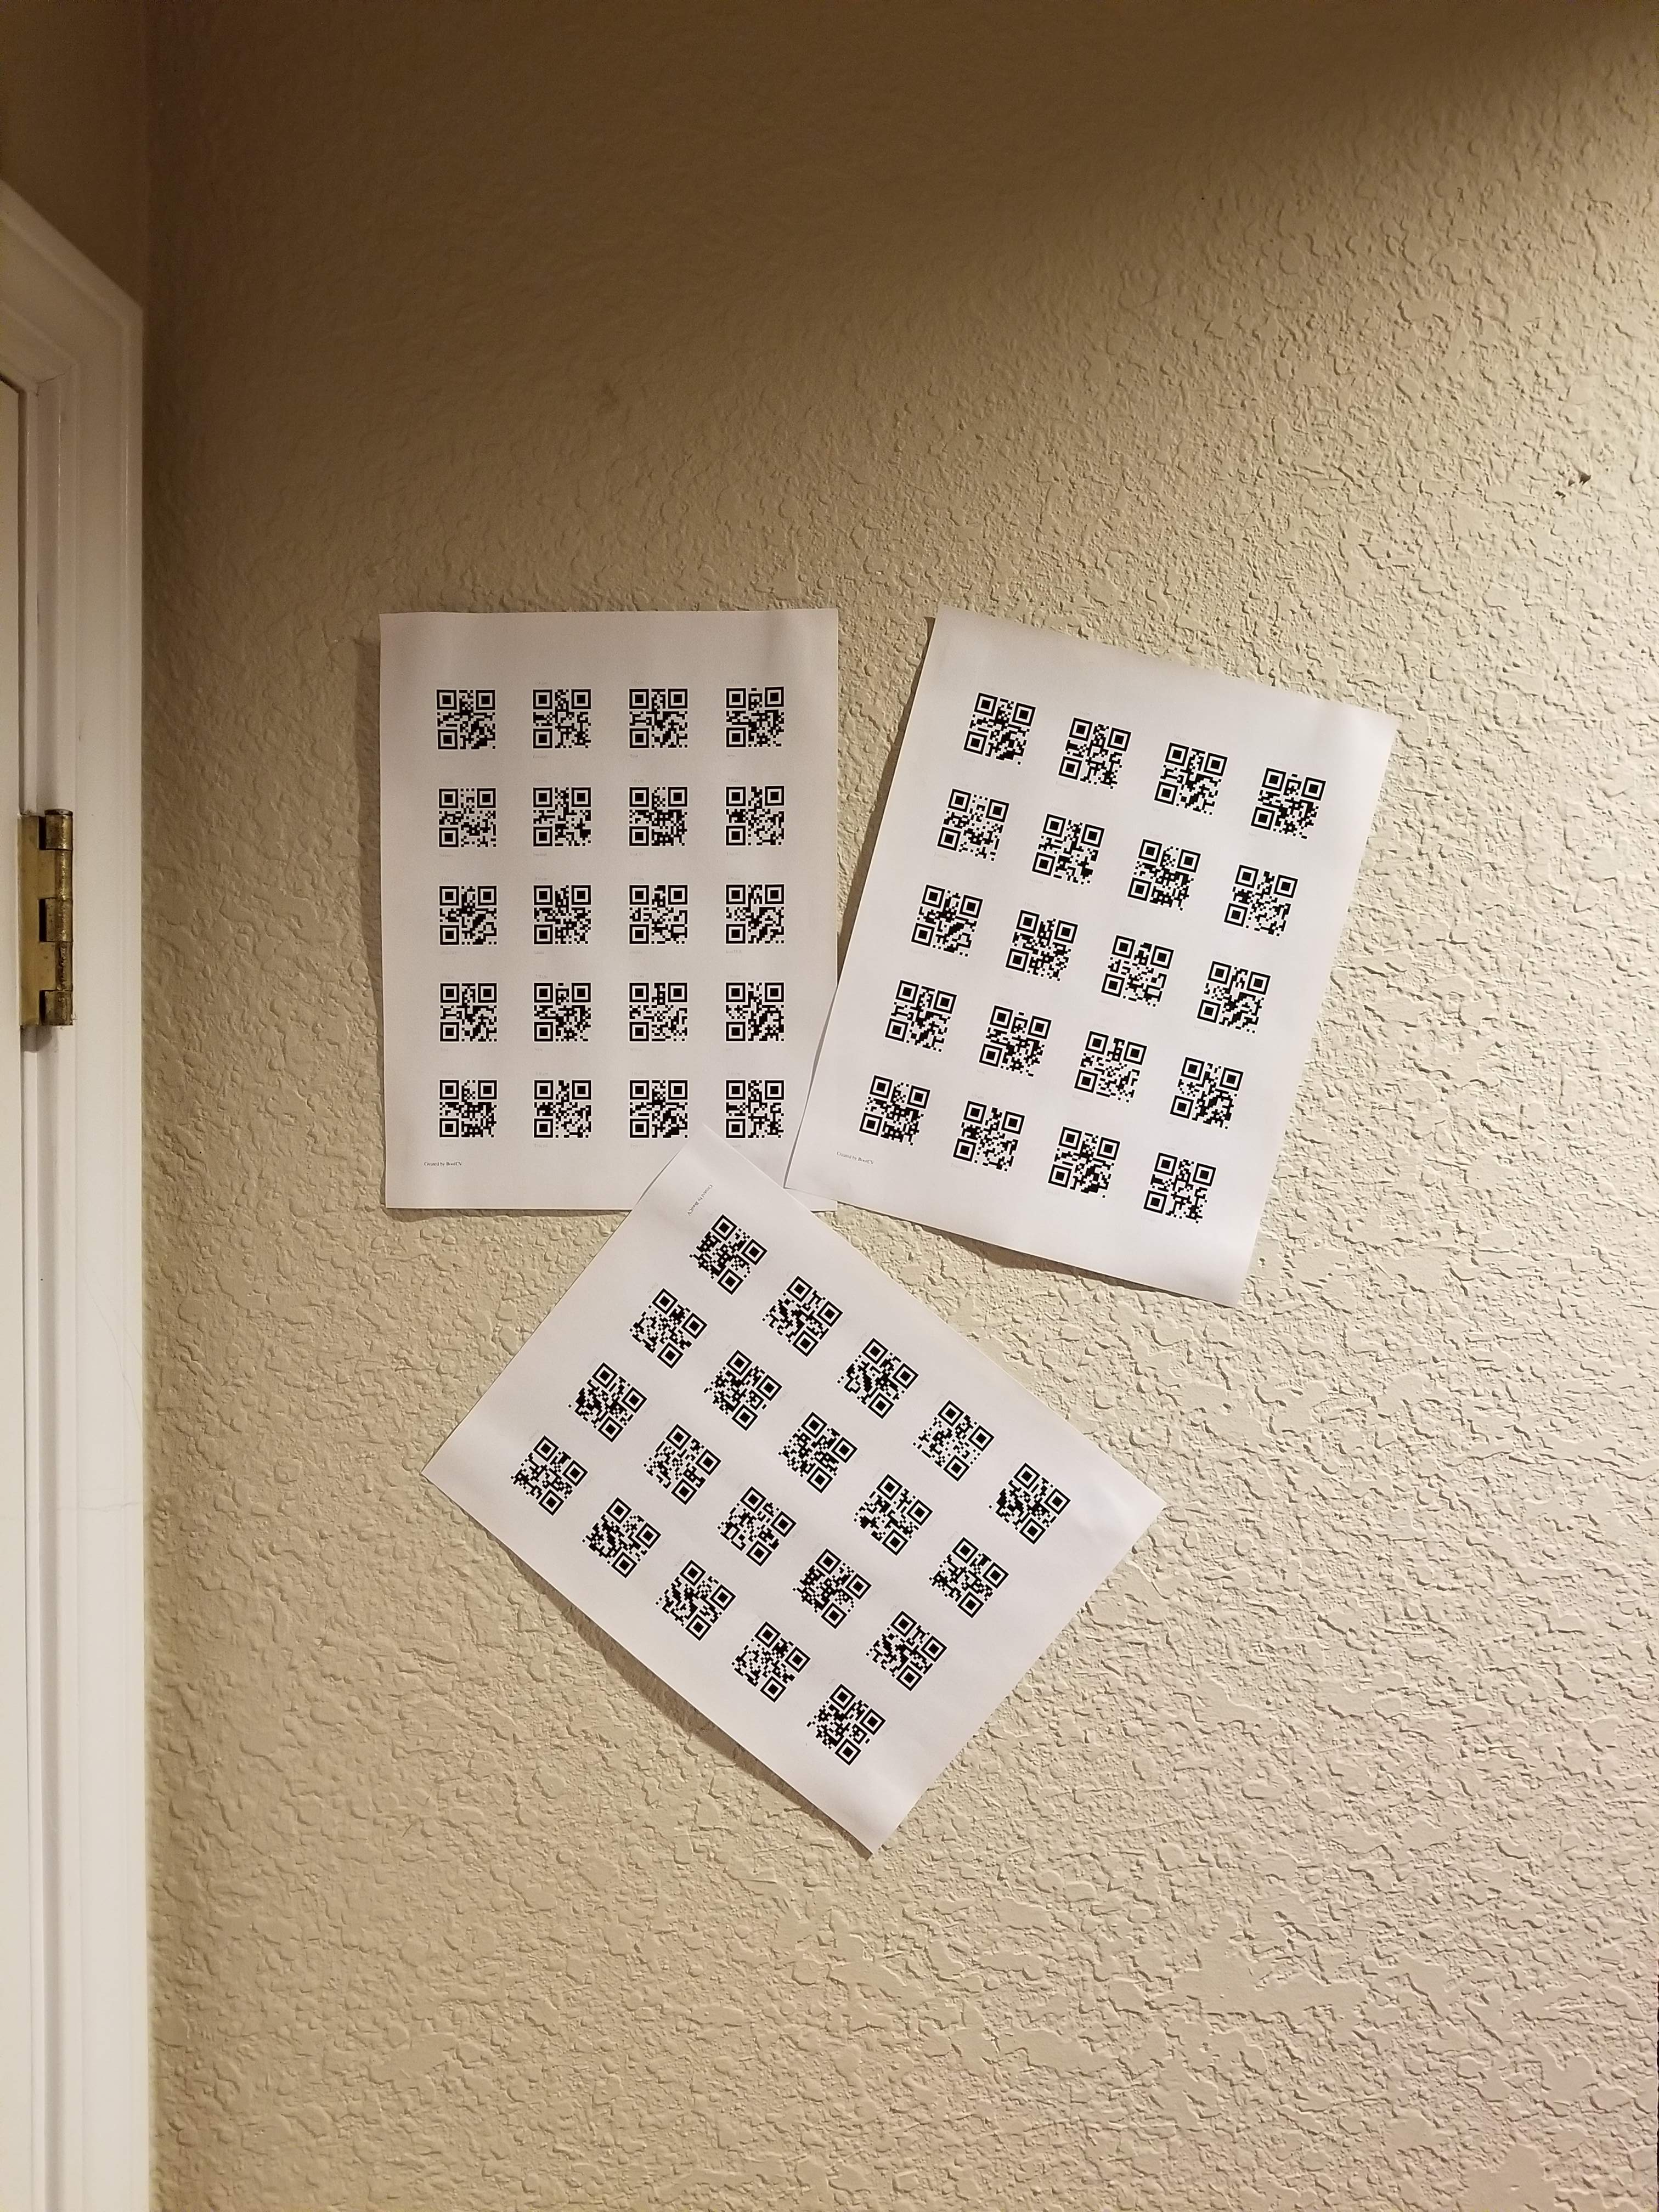QR_CODE: (983, 1453, 1082, 1554), (924, 1531, 1026, 1629), (676, 1205, 777, 1301), (1134, 1141, 1229, 1242), (857, 1606, 960, 1698), (1239, 752, 1337, 845), (1215, 846, 1304, 946), (490, 1430, 591, 1517), (711, 1477, 803, 1571), (943, 1089, 1032, 1186), (803, 1677, 896, 1770), (413, 671, 507, 761), (1089, 925, 1183, 1015), (831, 1331, 922, 1425), (1039, 1118, 1129, 1211), (636, 1421, 728, 1512), (988, 902, 1082, 991), (1161, 1047, 1249, 1141), (516, 958, 603, 1054), (563, 1353, 650, 1449), (727, 1622, 823, 1709), (1188, 951, 1279, 1042), (906, 1395, 997, 1486), (619, 1282, 709, 1372), (1019, 808, 1112, 897), (849, 1064, 938, 1157), (760, 1268, 849, 1360), (849, 1468, 938, 1561), (1047, 705, 1133, 801), (955, 679, 1037, 779), (709, 667, 798, 758), (896, 876, 986, 965), (774, 1404, 861, 1496), (1063, 1024, 1157, 1109), (697, 1345, 784, 1435), (1143, 732, 1229, 824), (784, 1545, 877, 1630), (929, 779, 1016, 867), (1117, 833, 1204, 921), (873, 970, 962, 1057), (579, 1493, 666, 1581), (516, 671, 598, 765), (612, 674, 697, 761), (969, 1000, 1056, 1085), (652, 1557, 737, 1644), (615, 1066, 699, 1153), (714, 1068, 796, 1157), (512, 779, 605, 857), (612, 972, 697, 1055), (613, 779, 697, 860), (423, 968, 505, 1052), (427, 775, 505, 862), (612, 876, 695, 956), (518, 871, 599, 951), (714, 972, 796, 1052), (425, 1062, 504, 1146), (714, 777, 793, 859), (526, 1068, 601, 1150), (718, 871, 791, 954), (430, 876, 507, 954)
